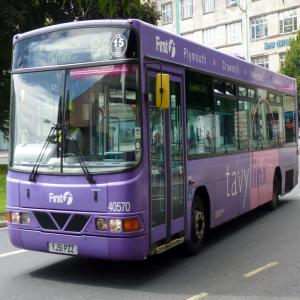Vehicle-registration-plate: (49, 245, 79, 257)
